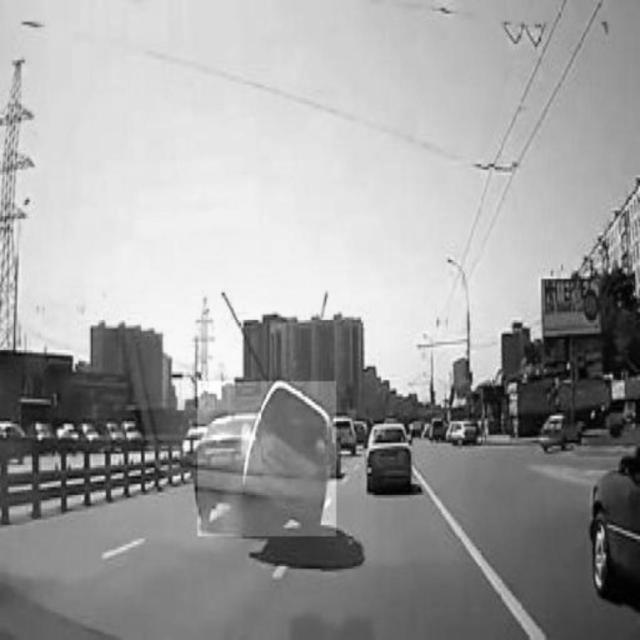accident: (197, 381, 335, 535)
vehicle: (368, 420, 415, 493)
